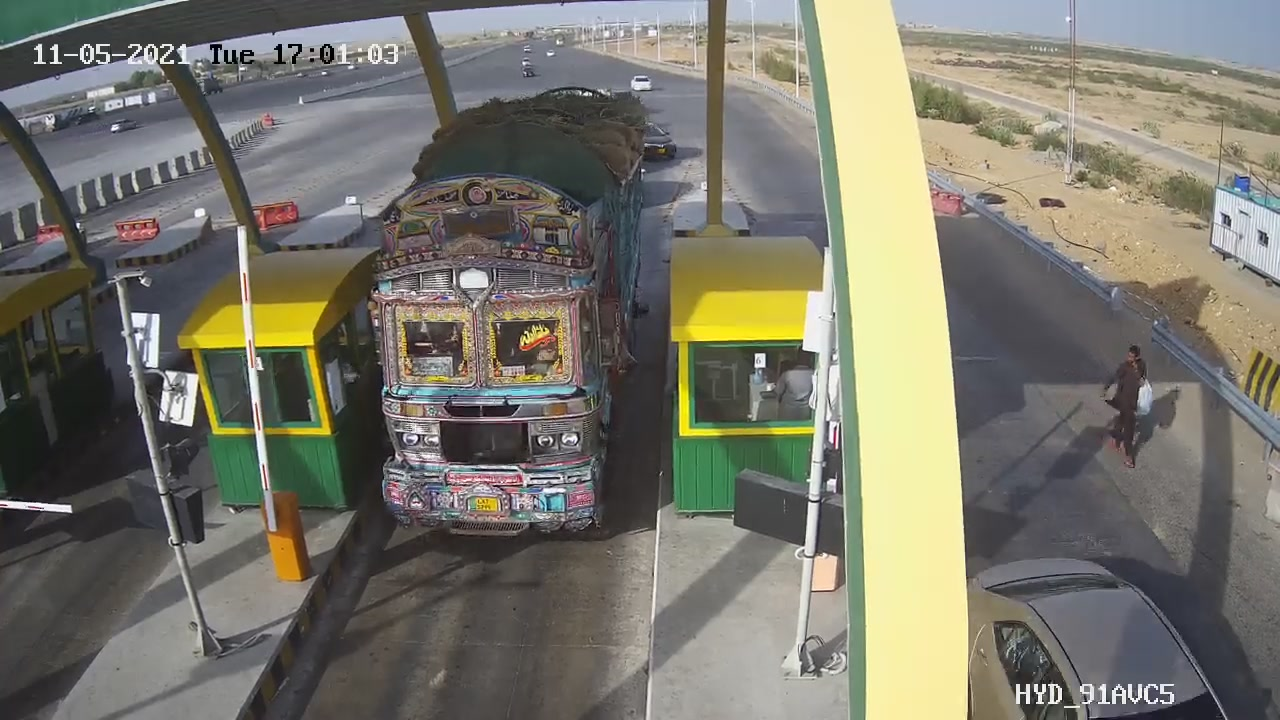F5: (357, 73, 670, 575)
